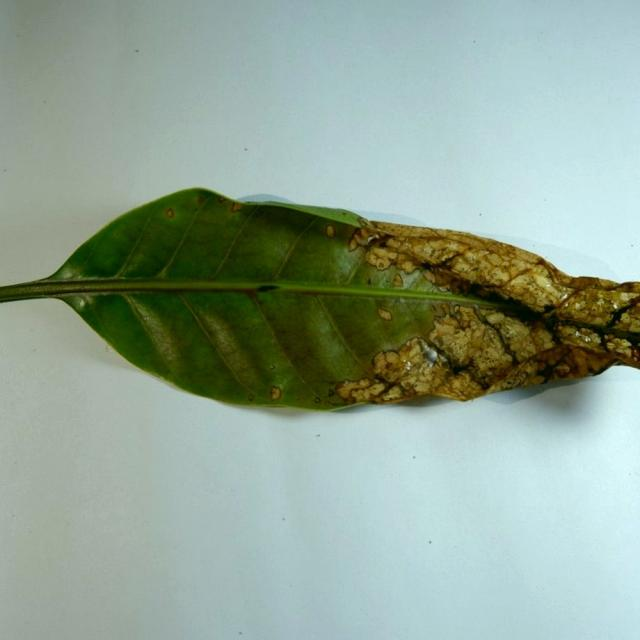Anthracnose: (393, 337, 441, 378), (364, 245, 404, 272), (561, 293, 596, 318), (605, 336, 635, 362), (610, 309, 637, 337), (500, 366, 532, 389), (529, 325, 555, 353), (452, 255, 483, 276), (425, 267, 456, 288), (557, 324, 589, 344), (349, 227, 377, 249), (377, 351, 403, 373), (447, 375, 474, 395), (489, 333, 513, 354), (421, 241, 450, 258), (433, 318, 458, 337), (349, 385, 377, 401), (376, 303, 394, 325), (532, 273, 554, 290), (439, 307, 459, 325), (535, 362, 555, 380), (369, 254, 390, 270), (575, 328, 598, 342), (485, 311, 506, 326), (382, 386, 403, 400), (337, 384, 356, 399), (412, 379, 432, 393), (531, 264, 550, 278), (376, 306, 393, 321), (399, 259, 417, 273), (366, 382, 385, 395), (522, 277, 540, 290), (485, 253, 502, 266), (526, 374, 546, 385), (615, 343, 631, 356), (491, 269, 508, 281), (269, 385, 282, 399), (555, 363, 570, 375), (437, 351, 449, 366), (620, 292, 636, 303), (432, 304, 446, 316), (386, 352, 400, 364), (378, 237, 392, 249), (592, 299, 606, 311), (335, 380, 348, 392), (401, 379, 414, 391), (325, 224, 335, 239), (423, 271, 435, 283), (478, 379, 491, 390), (348, 237, 358, 251), (393, 274, 403, 287), (503, 378, 516, 388), (440, 304, 451, 315), (231, 202, 243, 212), (340, 379, 353, 388), (165, 207, 175, 218), (574, 301, 585, 310), (438, 284, 450, 292), (453, 305, 461, 315), (635, 346, 640, 361), (105, 345, 114, 353), (197, 196, 205, 205), (267, 364, 276, 371), (325, 400, 335, 406), (218, 196, 226, 203), (327, 389, 335, 396), (113, 231, 121, 238), (248, 394, 255, 401), (314, 397, 321, 403), (366, 278, 371, 285), (341, 212, 347, 216)
Mango: (0, 189, 639, 414)
